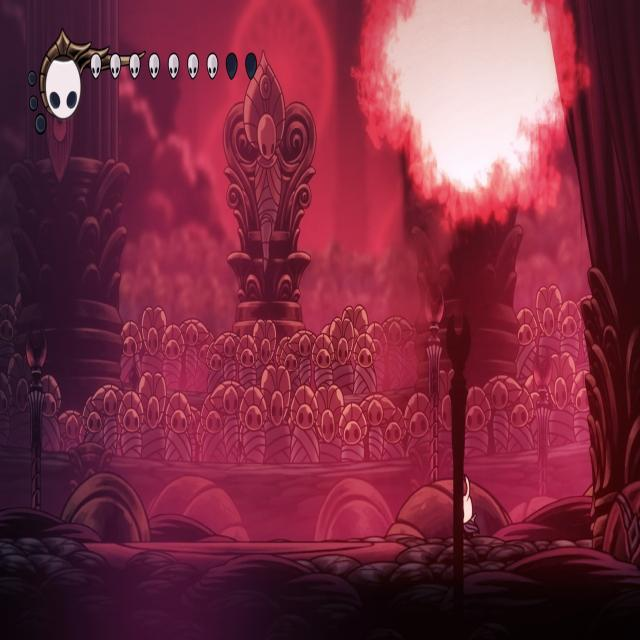Fireball: (381, 1, 572, 197)
Player: (448, 467, 482, 540)
